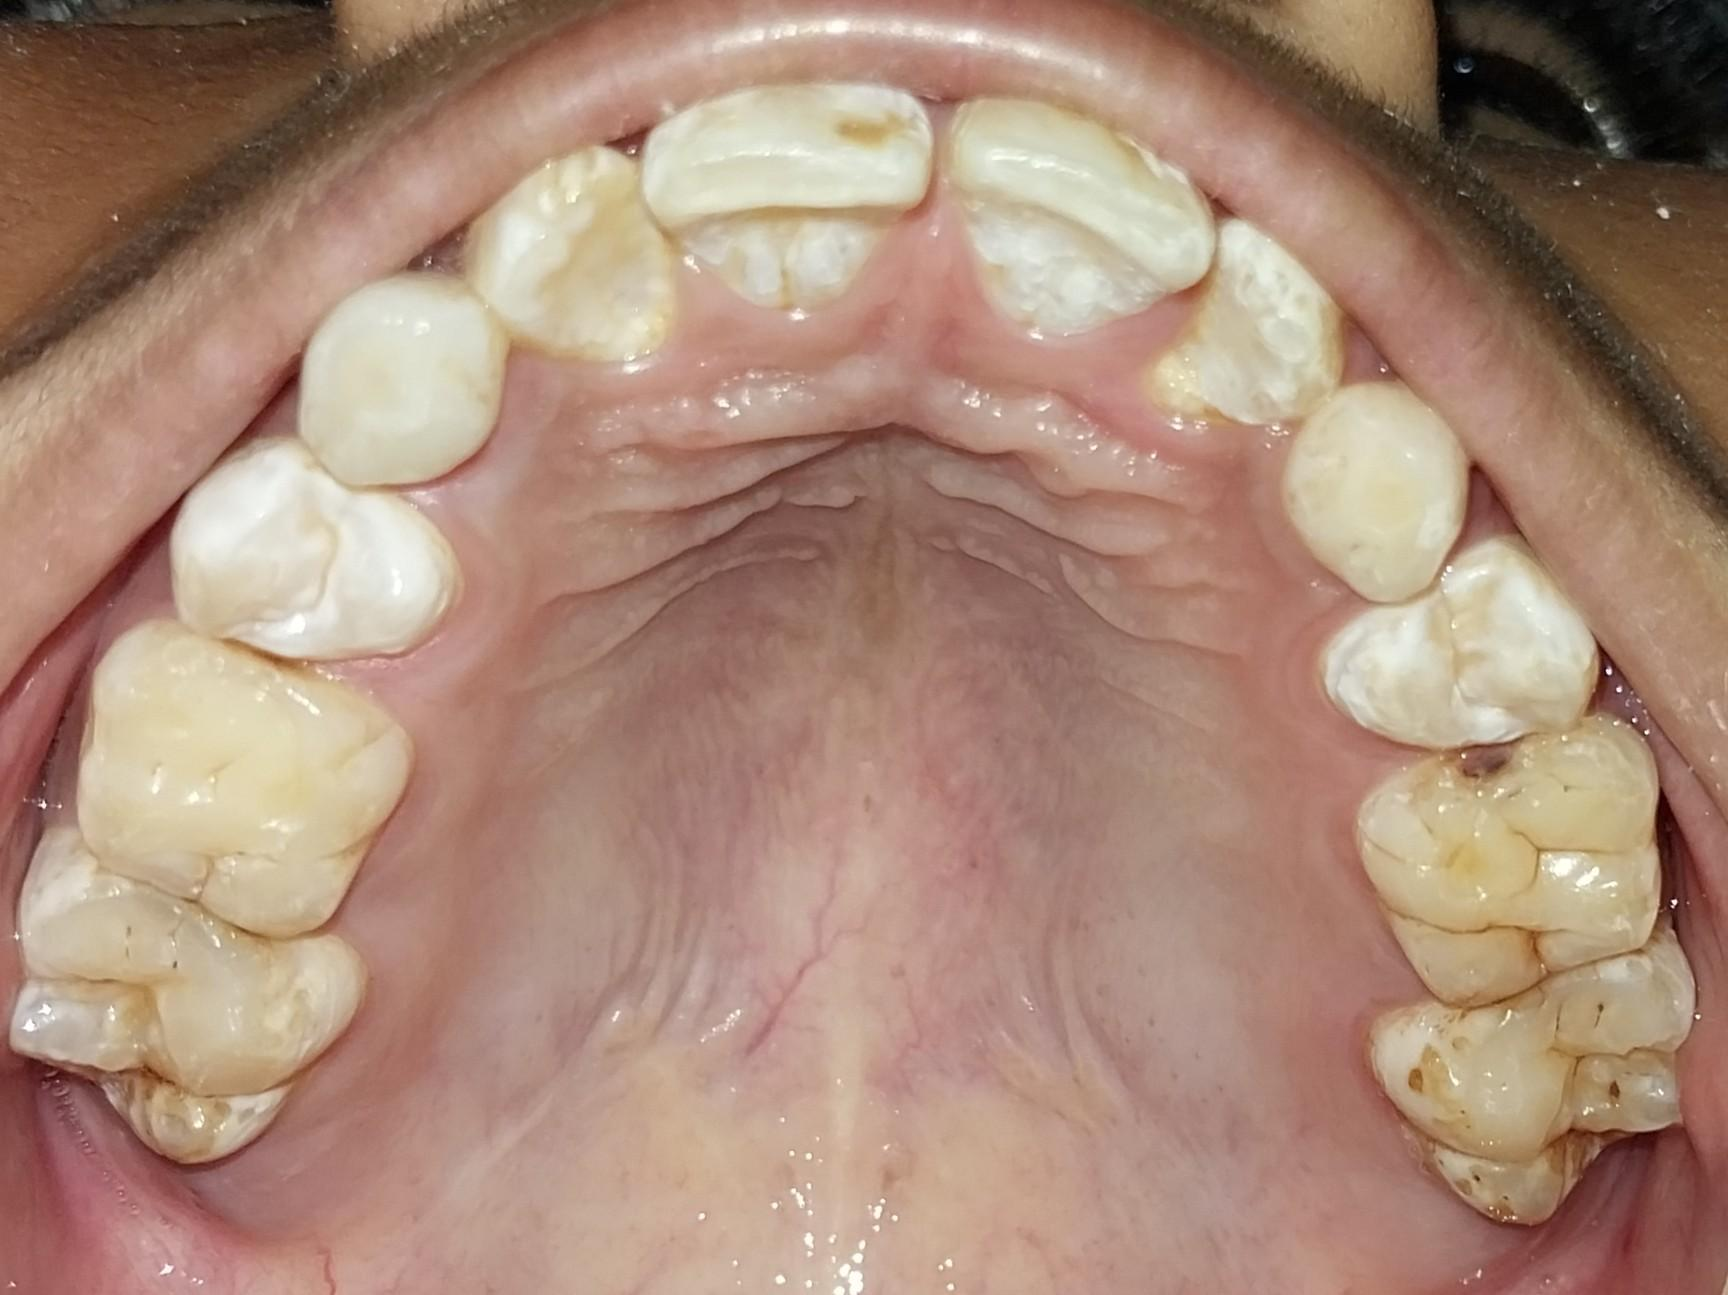D: (1364, 738, 1659, 1007)
